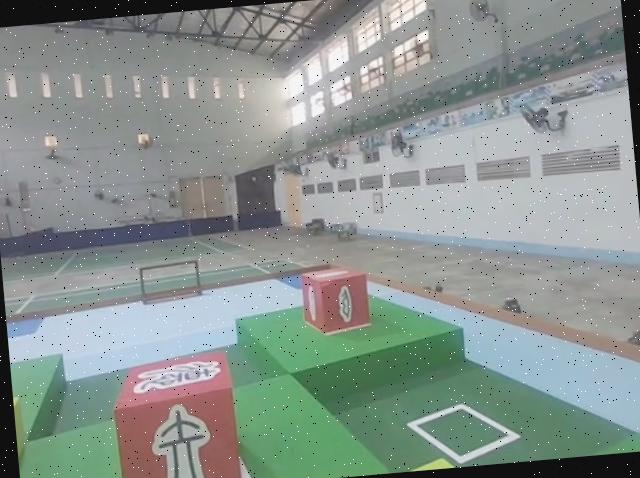R2 Fake: (107, 345, 246, 478)
R2 Real: (299, 262, 375, 338)
